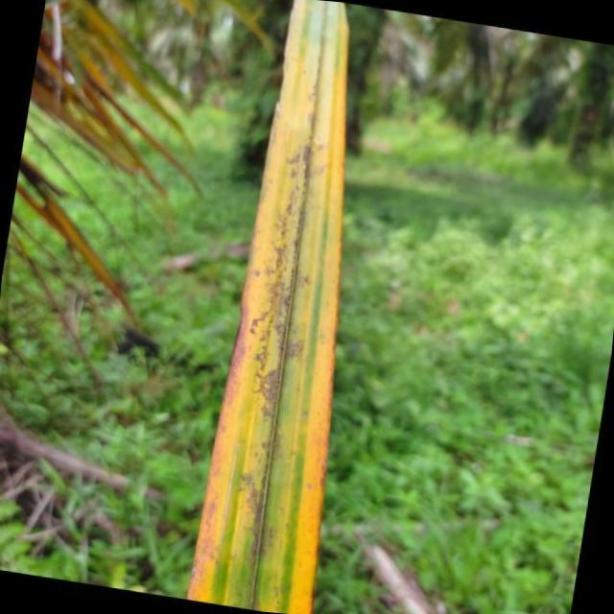Megnesium: (189, 0, 348, 614)
